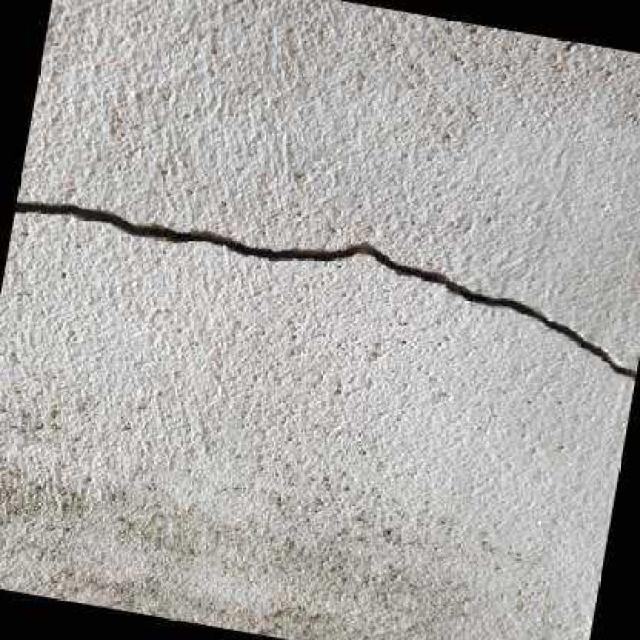D00: (14, 198, 636, 381)
